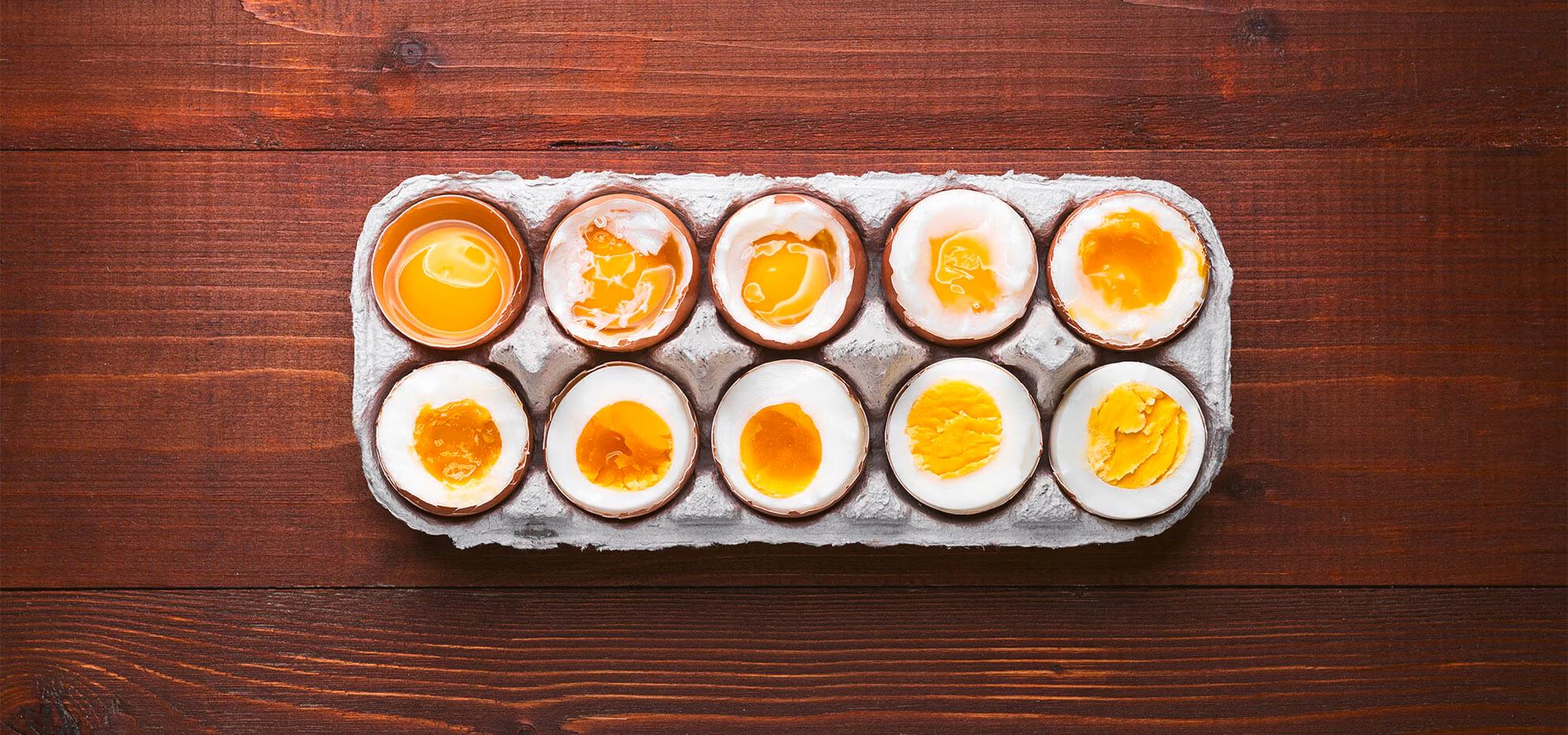telur: (1065, 220, 1191, 334), (1076, 384, 1186, 510), (397, 373, 505, 498), (911, 382, 1015, 500), (734, 215, 837, 331), (566, 219, 667, 336), (397, 223, 504, 332), (913, 211, 1013, 327), (735, 384, 830, 500), (578, 386, 667, 501)
